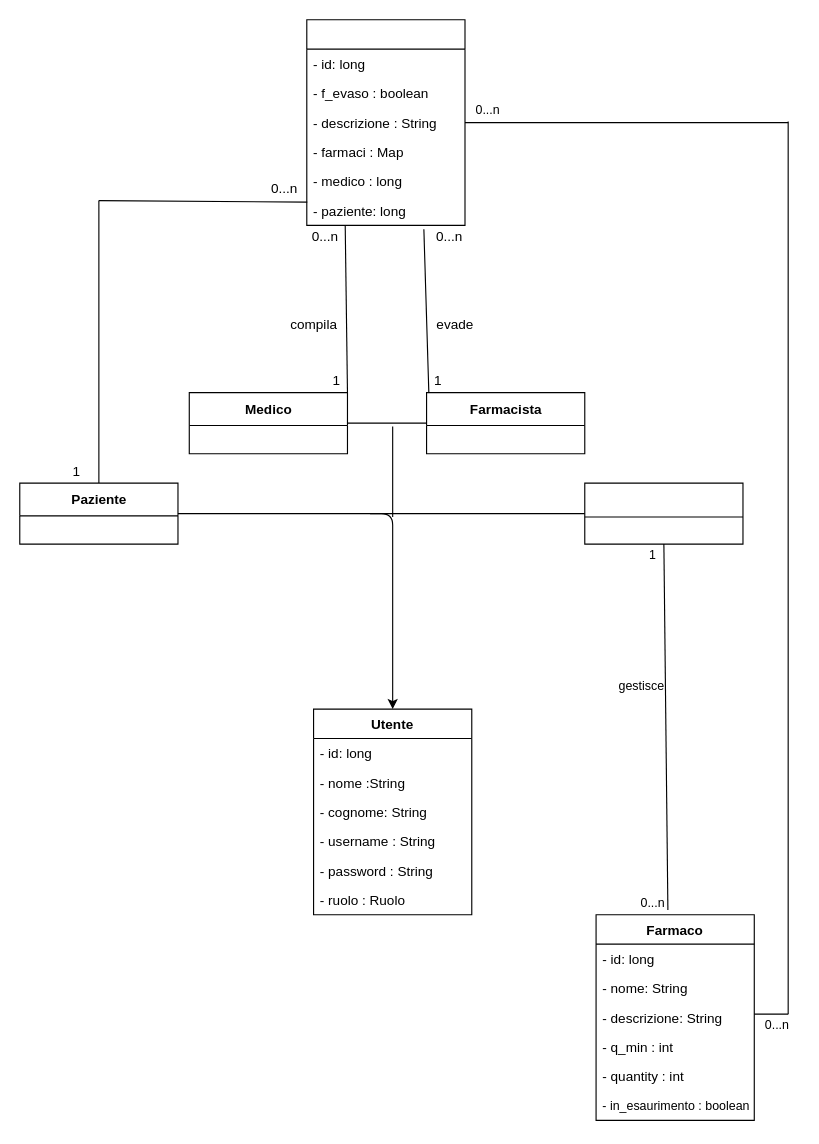
Some shapes in this 819 by 1144 pixel diagram are drawn without their labels. The box of each missing label's shape, as (x1, y1, x2, y2) in pixels:
Amministratore: (584, 482, 743, 544)
Prescrizione: (306, 19, 465, 225)
